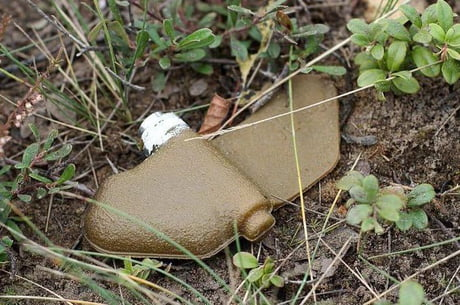butterfly: (79, 68, 353, 264)
